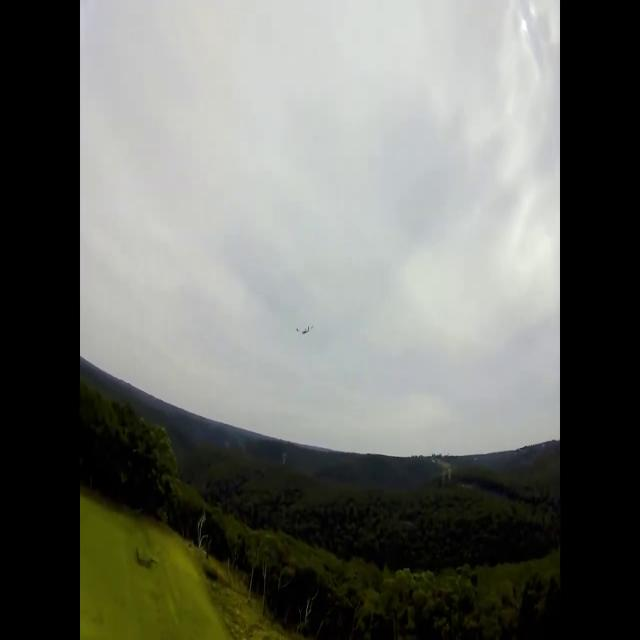iha: (296, 321, 314, 327)
